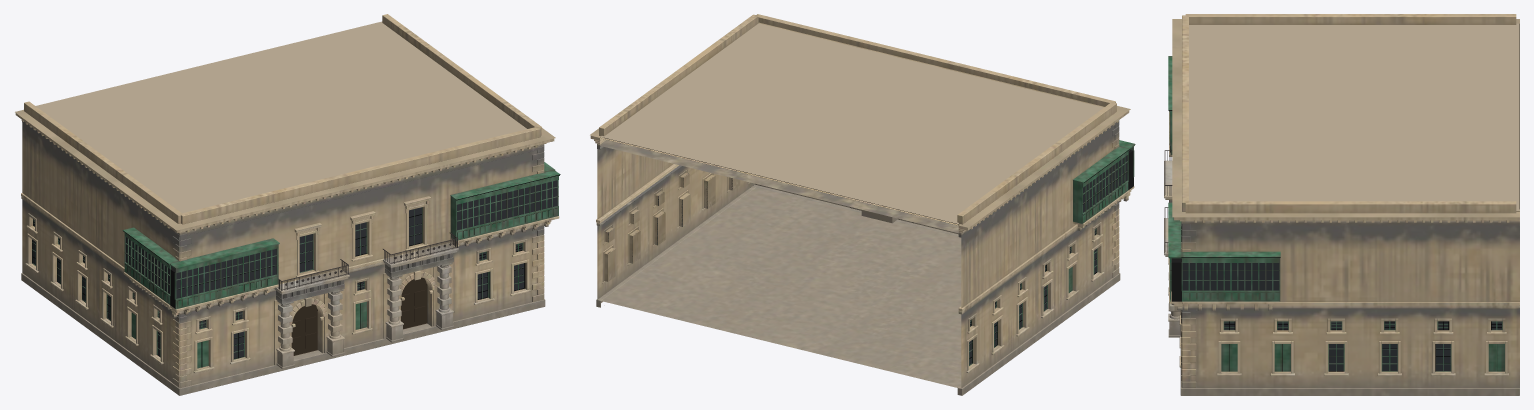
File: palace-zc7YBDVv.glb
3 views of the same model, side by side, from view 1: azimuth 30°, elevation 25°; view 2: azimuth 150°, elevation 25°; view 3: azimuth 270°, elevation 25° (orthographic). The views are drawn at different scales.
Visible parts, largest first — view 1: palace, palace_roof, palace_flat; view 2: palace, palace_roof, palace_flat; view 3: palace, palace_roof, palace_flat.
Part boxes in pixels (x1,y1,x2,y2): palace: (15,14,560,395); palace_roof: (36,21,526,213); palace_flat: (33,180,557,358); palace: (590,14,1135,395); palace_roof: (600,23,1103,223); palace_flat: (610,150,1133,364); palace: (1164,14,1519,395); palace_roof: (1189,23,1519,210); palace_flat: (1164,150,1501,370).
Bounding box in the file's own units: 42.46 × 18.75 × 31.6.
6 materials, 1 textured.
